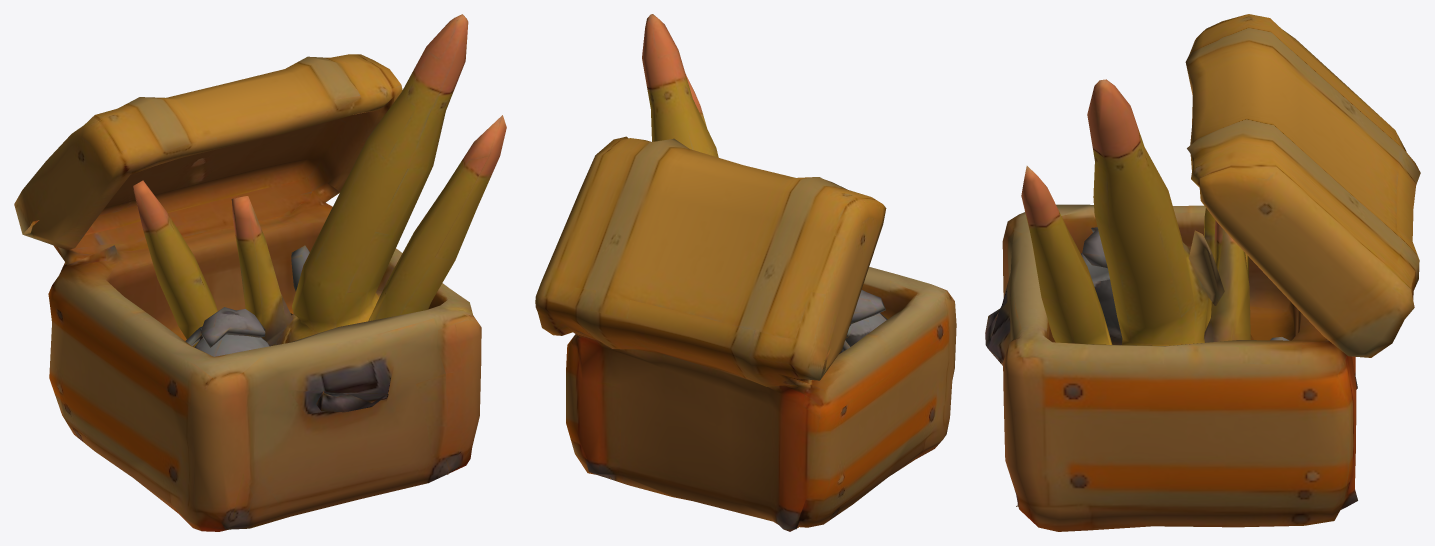
File: ammo7.glb
3 views of the same model, side by side, from view 1: azimuth 30°, elevation 25°; view 2: azimuth 150°, elevation 25°; view 3: azimuth 270°, elevation 25° (orthographic). The views are drawn at different scales.
Parts seen in each view (by area): view 1: tripo_node_f945e8a7-6a52-4e2a-bc83-b17c61e8be2d; view 2: tripo_node_f945e8a7-6a52-4e2a-bc83-b17c61e8be2d; view 3: tripo_node_f945e8a7-6a52-4e2a-bc83-b17c61e8be2d.
Part boxes in pixels (x1,y1,x2,y2): tripo_node_f945e8a7-6a52-4e2a-bc83-b17c61e8be2d: (14, 14, 506, 531); tripo_node_f945e8a7-6a52-4e2a-bc83-b17c61e8be2d: (535, 14, 956, 531); tripo_node_f945e8a7-6a52-4e2a-bc83-b17c61e8be2d: (985, 14, 1420, 531).
Size of the model in its own units: 0.767 by 0.9744 by 0.8207.
1 material, 1 textured.
